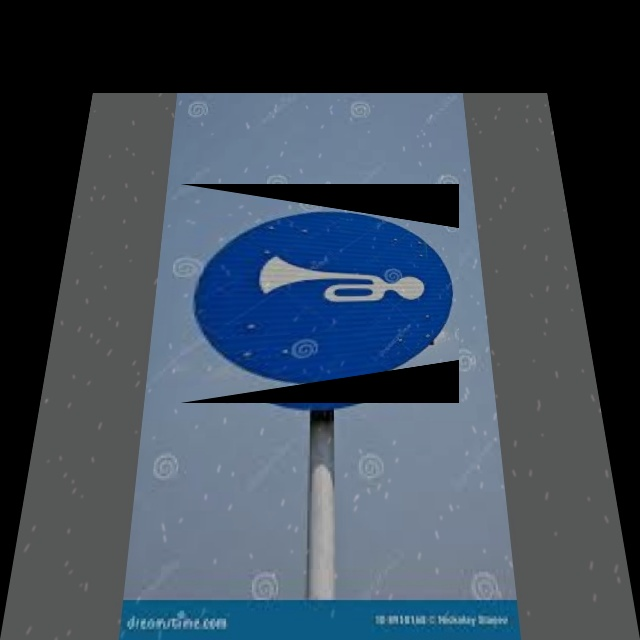Compulsory_Sound_Horn: (180, 184, 459, 403)
